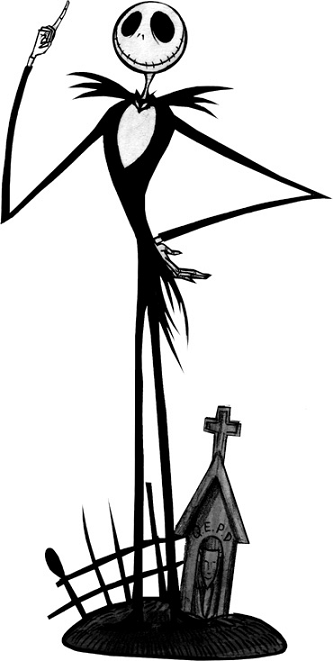Jack Skellington: (1, 1, 333, 637)
